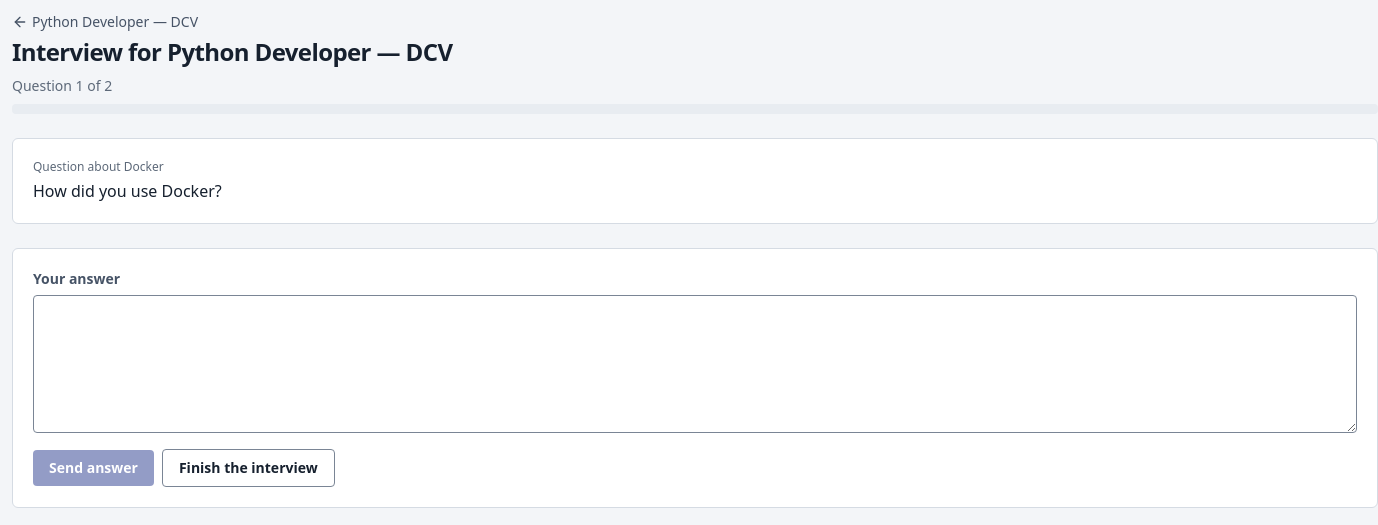
finishing early shows the summary and takes no more answers
Click the button "Finish the interview" at (248, 468), box [162,449,335,487]
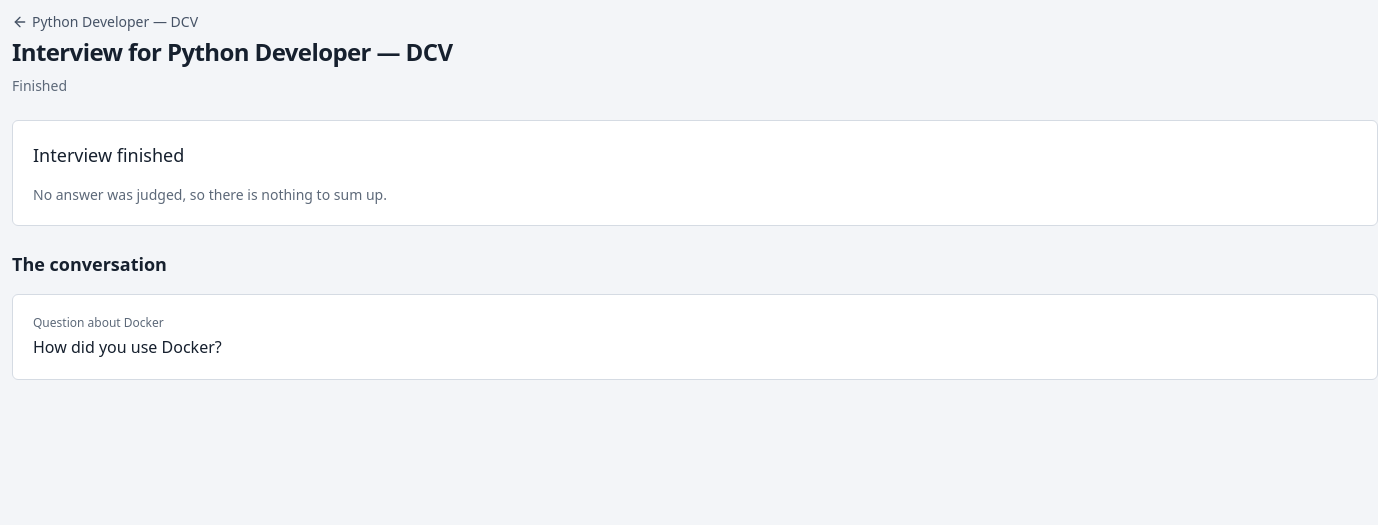
Expected: the text "No answer was judged, so there is nothing to sum up." is shown, [33,185,387,204]
Expected: the label labelled "Your answer" is gone
